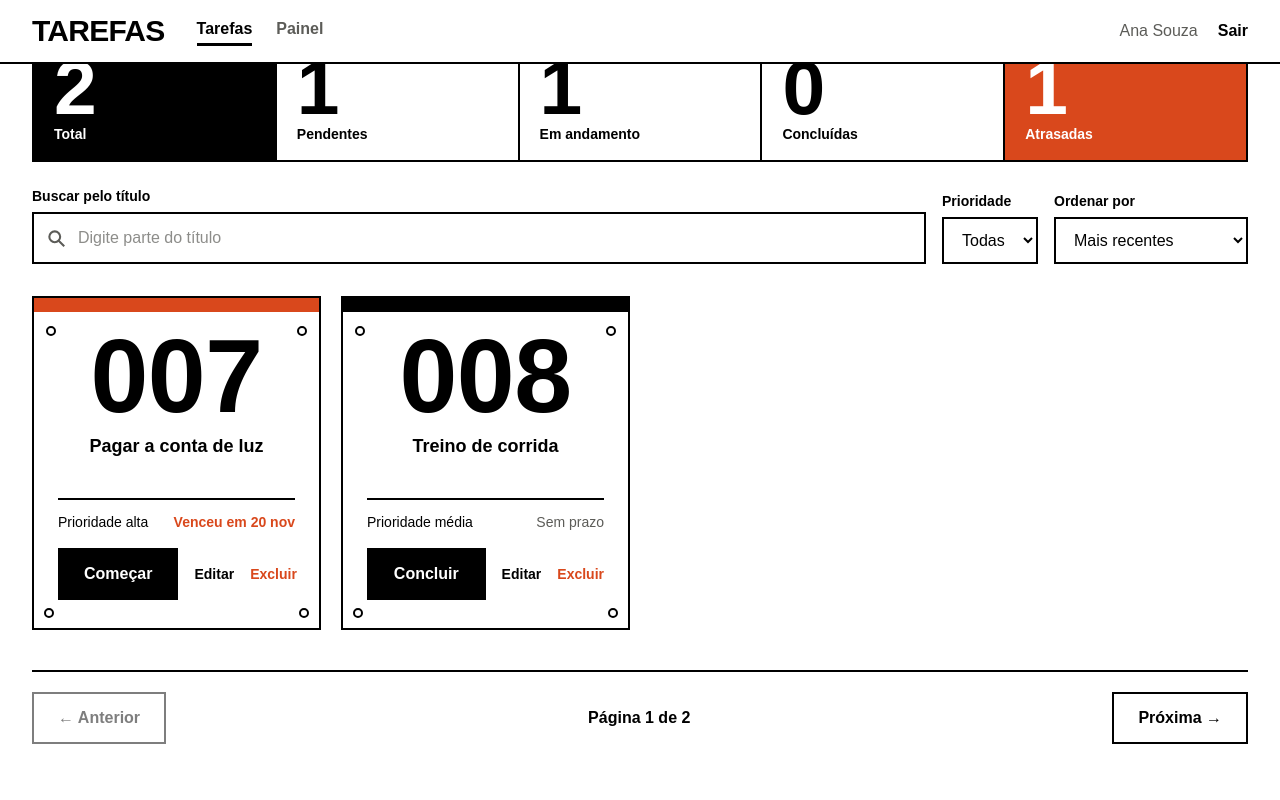
Scenario: página de tarefas › pagina a lista
The width and height of the screenshot is (1280, 800).
(page scrolled)
Expected: the text "Página 1 de 2" is shown, [588,706,690,730]
Expected: the button "← Anterior" is disabled, [32,692,166,744]
Click the button "Próxima →" at [1180, 718], box [1112,692,1248,744]
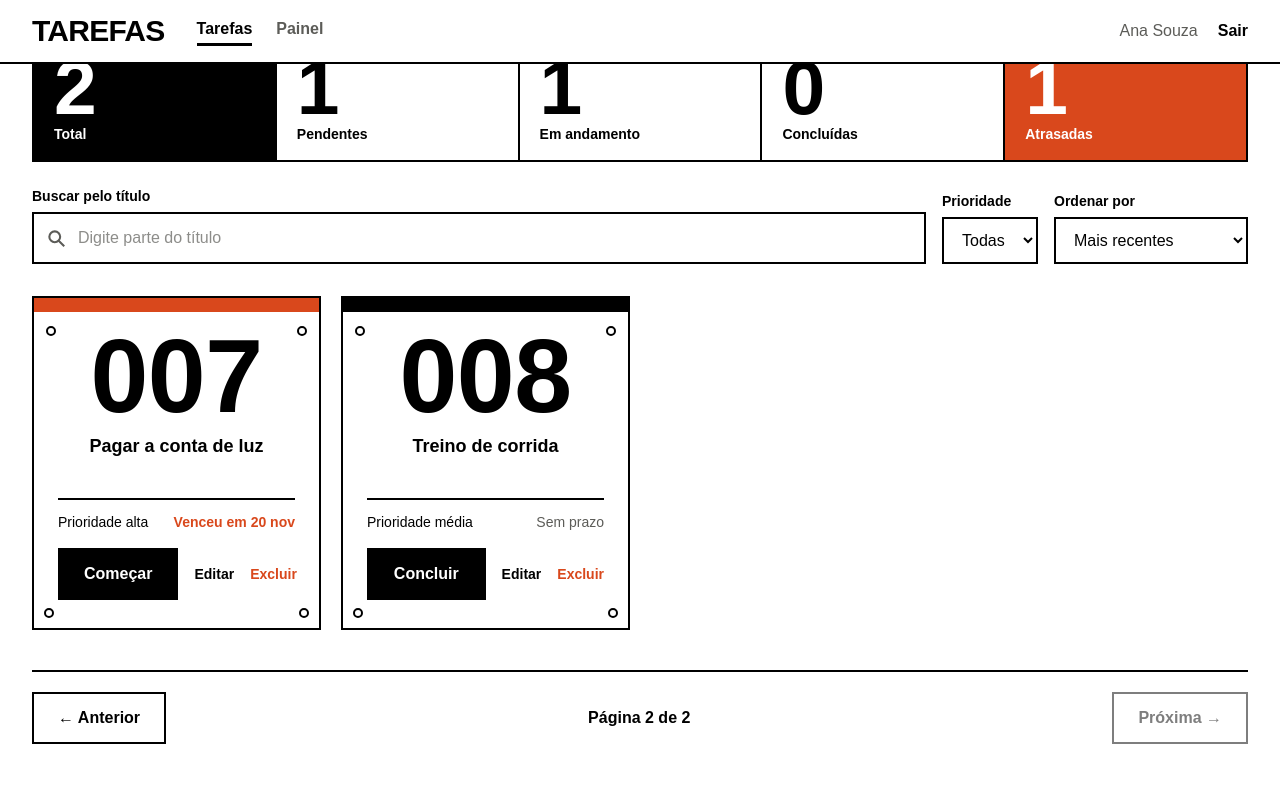
Expected: the text "Página 2 de 2" is shown, [588,706,690,730]
